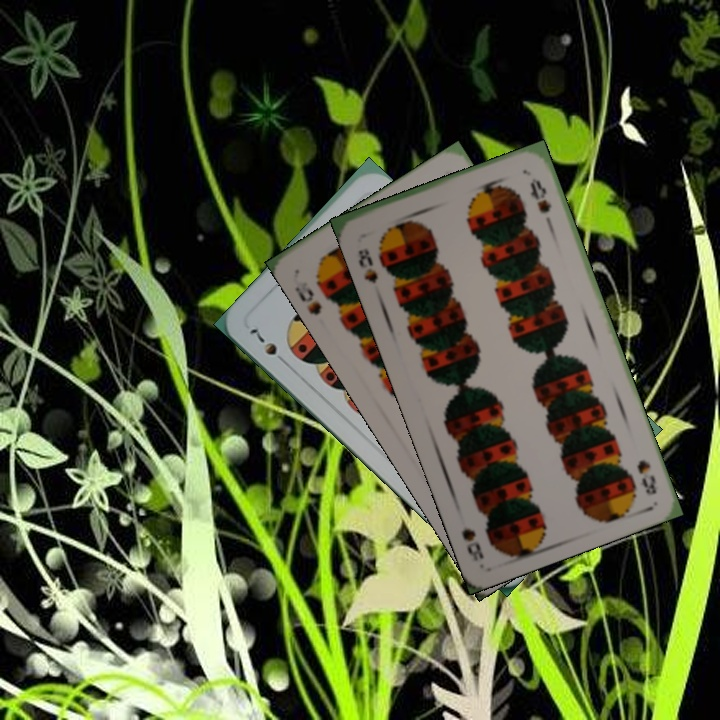S7: (245, 322, 291, 368)
S8: (291, 272, 325, 318), (354, 244, 381, 286), (633, 456, 660, 498)
